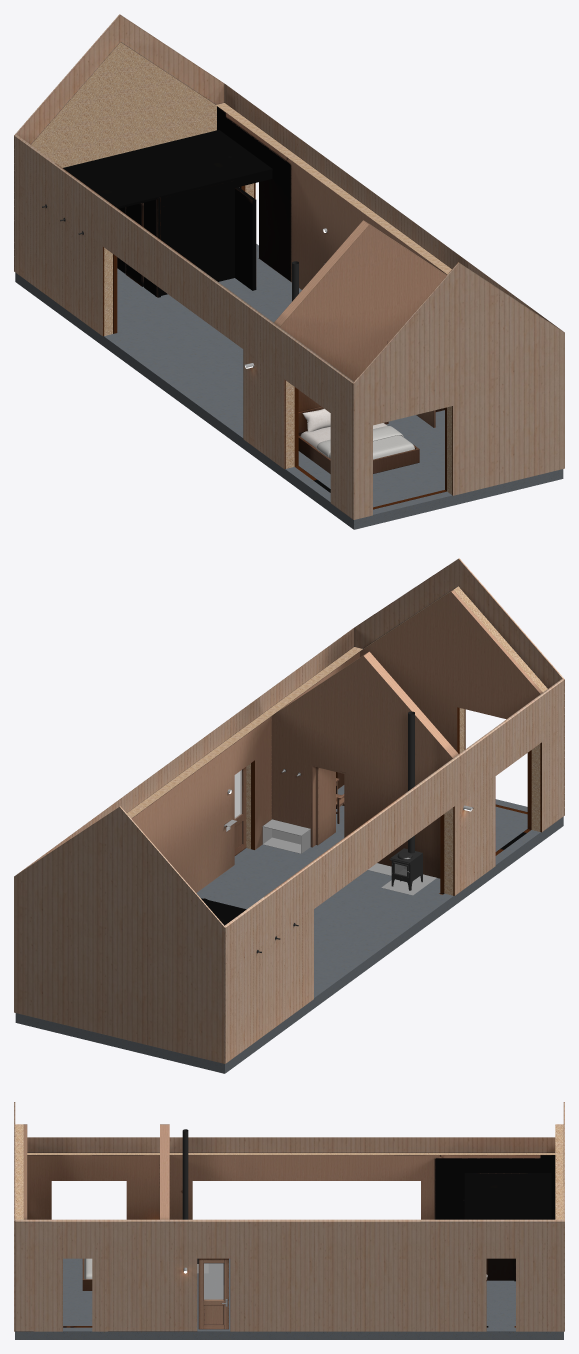
File: Base_1_Plus_Light.glb
The picture shows the model from 3 angles, top to bottom: view 1: azimuth 30°, elevation 25°; view 2: azimuth 150°, elevation 25°; view 3: azimuth 270°, elevation 25°; orthographic projection. The views are drawn at different scales.
Parts seen in each view (by area): view 1: Black wood _Main_Base1plus.001, Interior_Main_Wood_Base1plus.002, Concrete_Base1plus.002, Isolation_Base1plus.001, White Fabrics_Base1plus.001, White fabric_Base1plus.001; view 2: Black wood _Main_Base1plus.001, Interior_Main_Wood_Base1plus.002, Concrete_Base1plus.002, Isolation_Base1plus.001, Alumininum_Base1plus.001, Fireplace_Base1plus.001; view 3: Black wood _Main_Base1plus.001, Interior_Main_Wood_Base1plus.002, Concrete_Base1plus.002, Isolation_Base1plus.001, Glass_Base1plus.001, Fireplace_Base1plus.001.
Boxes of the visible parts, x1,y1,x2,y2 form: Black wood _Main_Base1plus.001: (14,14,564,519); Interior_Main_Wood_Base1plus.002: (63,106,447,509); Concrete_Base1plus.002: (15,244,563,529); Isolation_Base1plus.001: (31,42,452,494); White Fabrics_Base1plus.001: (316,426,414,459); White fabric_Base1plus.001: (300,408,387,448); Black wood _Main_Base1plus.001: (14,558,564,1063); Interior_Main_Wood_Base1plus.002: (131,590,542,925); Concrete_Base1plus.002: (15,785,563,1073); Isolation_Base1plus.001: (127,586,547,895); Alumininum_Base1plus.001: (224,769,473,895); Fireplace_Base1plus.001: (389,711,422,890); Black wood _Main_Base1plus.001: (14,1102,564,1331); Interior_Main_Wood_Base1plus.002: (23,1124,555,1329); Concrete_Base1plus.002: (15,1258,563,1339); Isolation_Base1plus.001: (15,1124,563,1219); Glass_Base1plus.001: (204,1263,223,1299); Fireplace_Base1plus.001: (182,1129,198,1263).
Bounding box in the file's own units: 2.63 × 2.38 × 6.06.
Materials: 13 (7 with a texture image).
